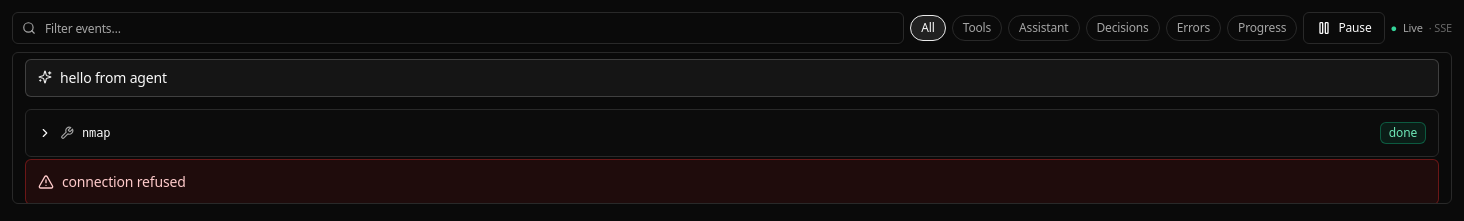
it: EventViewer › filters by free text, case-insensitively, and clears
The image size is (1464, 221).
Type "CONNECTION" into the field named "Filter events by text".
click(458, 28); type("CONNECTION")  # box top-left (12, 12), bottom-right (904, 44)
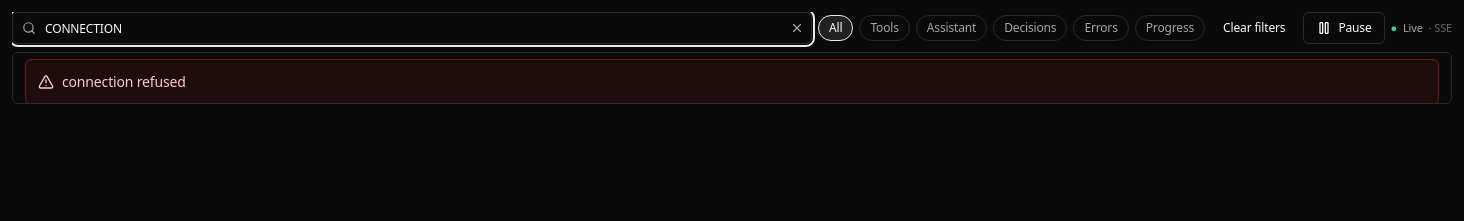
expect the text "connection refused" is shown: met, box top-left (62, 72), bottom-right (186, 92)
expect the text "hello from agent" is gone: met
Click the button "Clear filters".
click(1254, 28)  # box top-left (1211, 12), bottom-right (1297, 44)
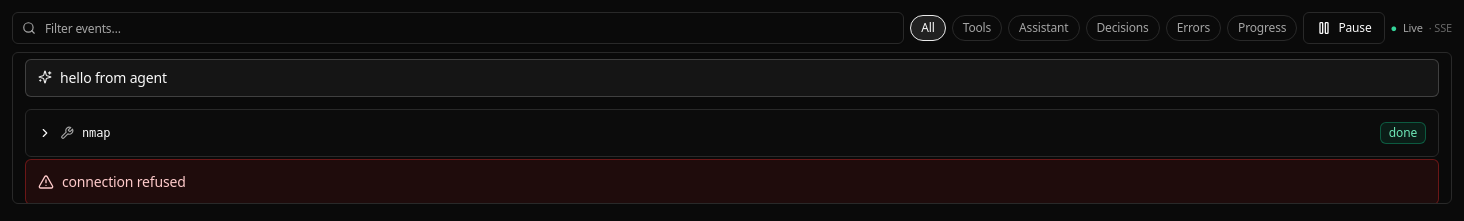
expect the text "connection refused" is shown: met, box top-left (62, 172), bottom-right (186, 192)
expect the text "hello from agent" is shown: met, box top-left (60, 68), bottom-right (167, 88)
